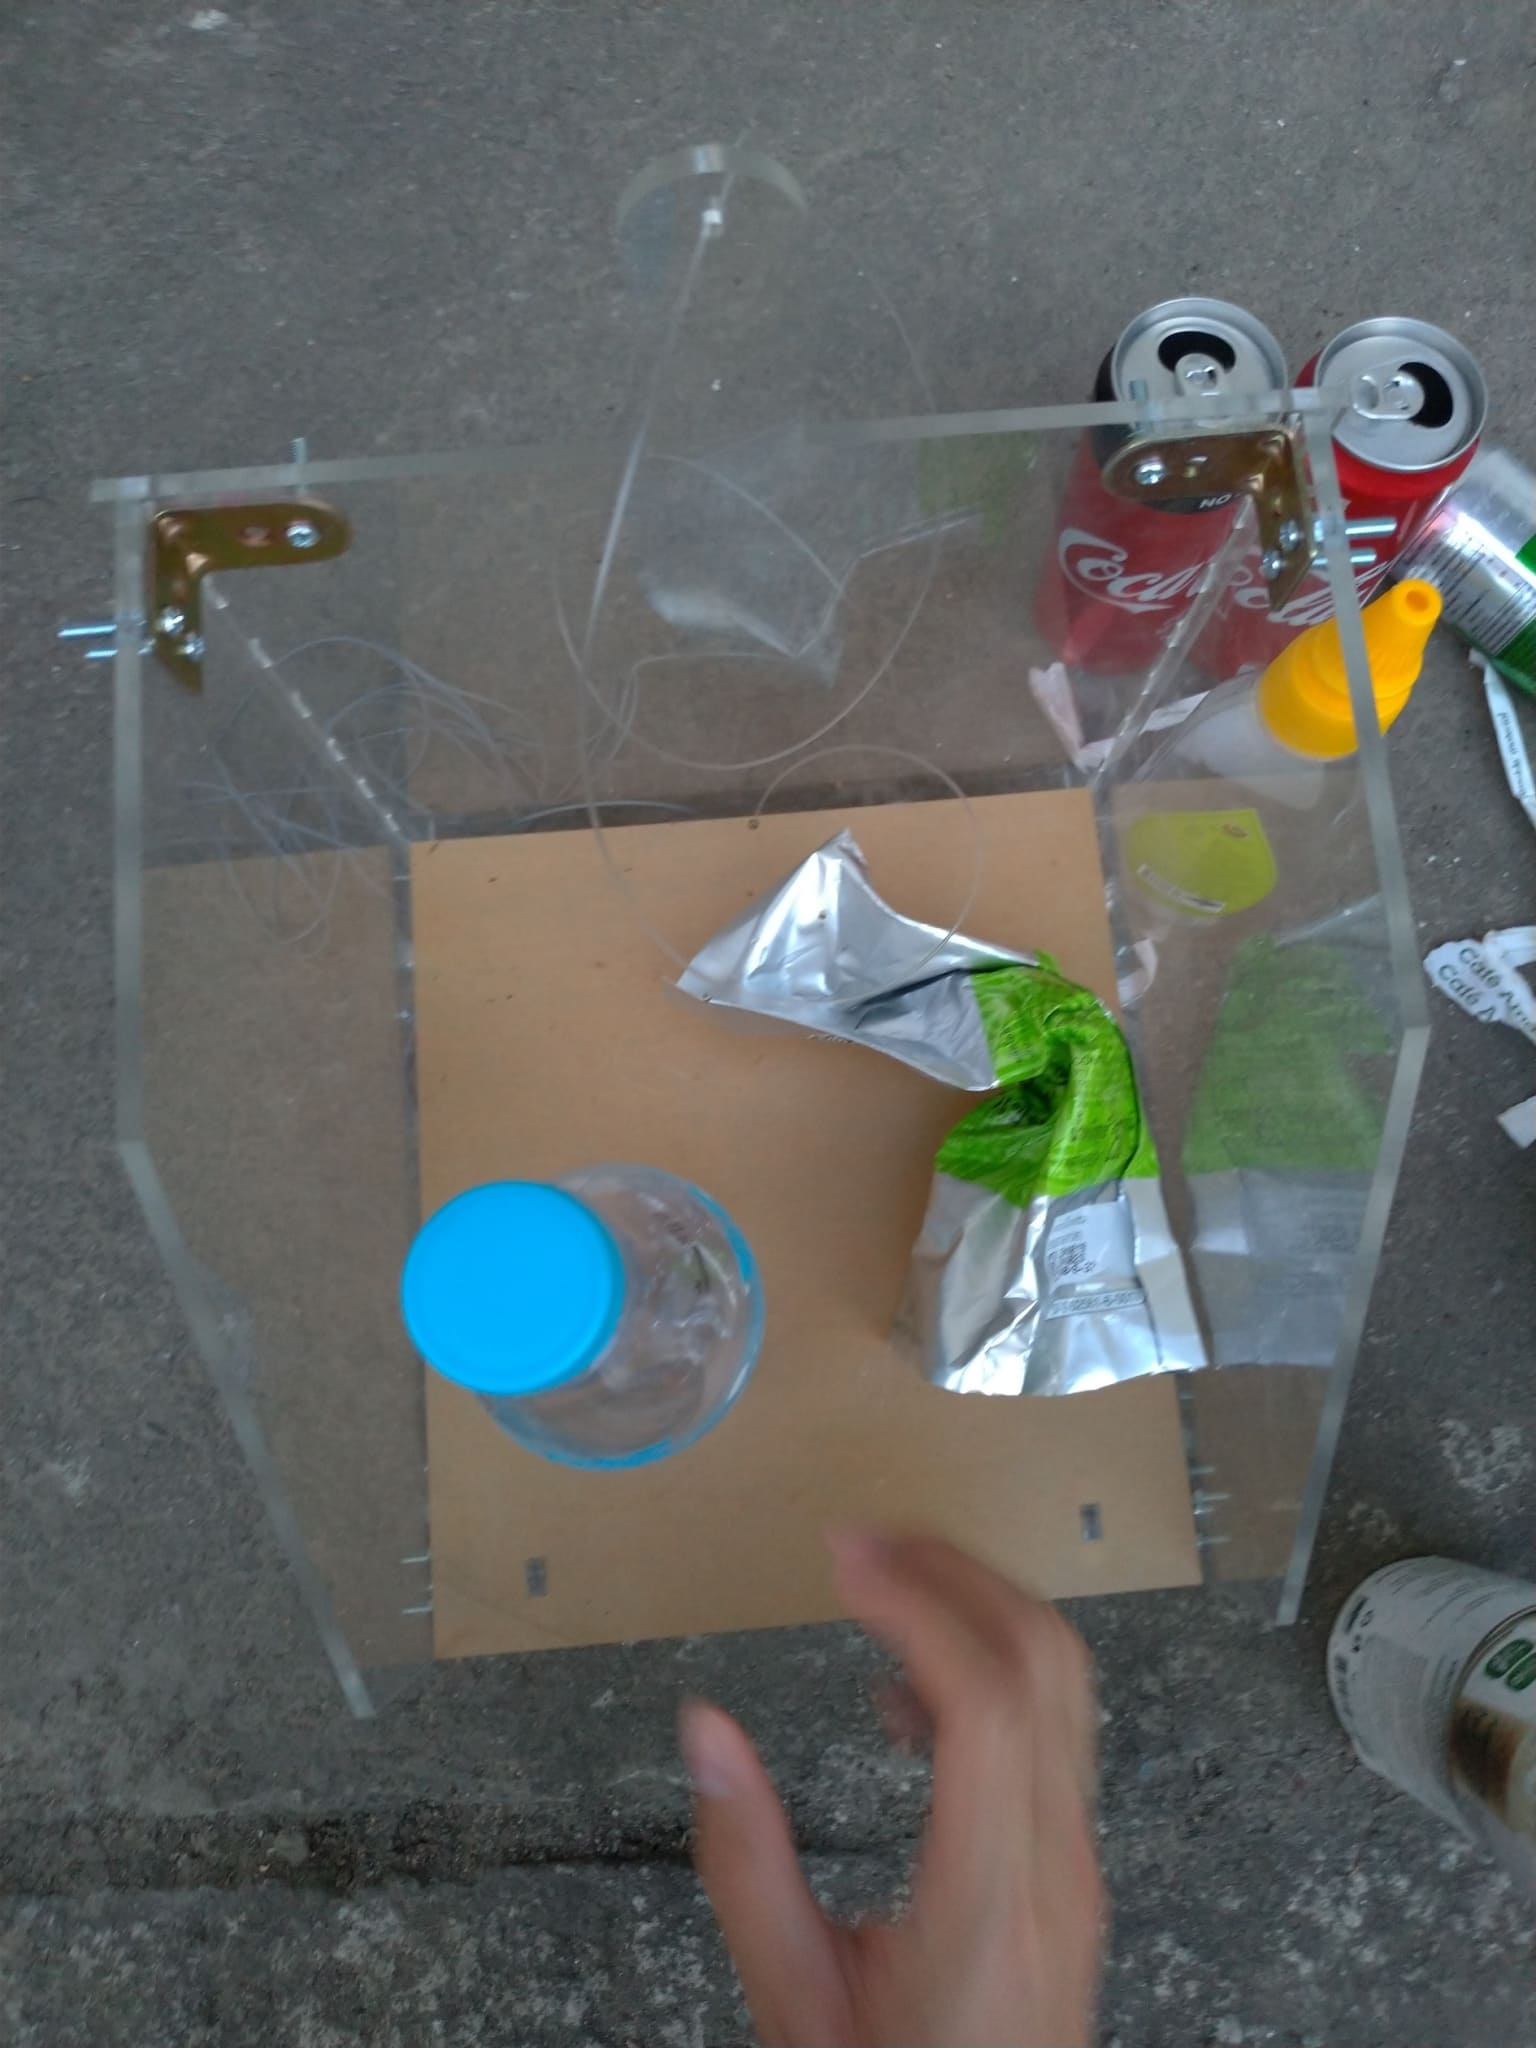AlCan: (1054, 303, 1292, 671), (1325, 1551, 1536, 1871), (1296, 310, 1486, 587), (1396, 461, 1536, 669)
Others: (663, 839, 1205, 1390)
PlasticBottle: (1102, 581, 1438, 971), (392, 1171, 773, 1461)
